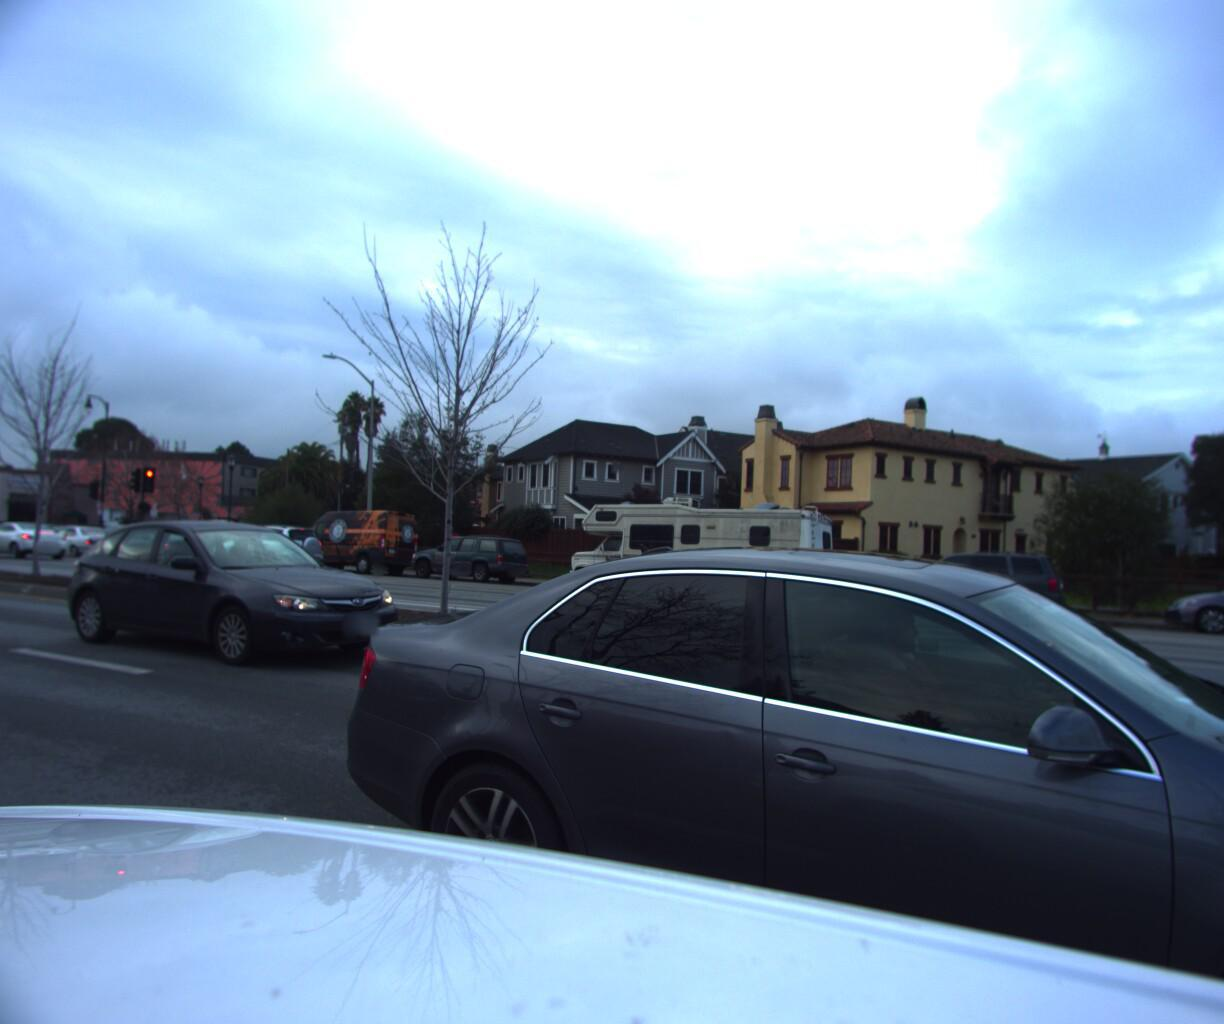car: (278, 549, 1224, 1024), (65, 524, 443, 691), (863, 542, 1069, 626), (278, 508, 422, 578), (400, 532, 535, 590), (208, 525, 338, 576), (1148, 564, 1224, 649), (83, 528, 208, 575), (98, 526, 205, 568), (28, 526, 124, 562), (0, 521, 77, 565), (59, 525, 134, 547)
other_vehicle: (557, 492, 842, 609)
truck: (200, 516, 276, 548)
